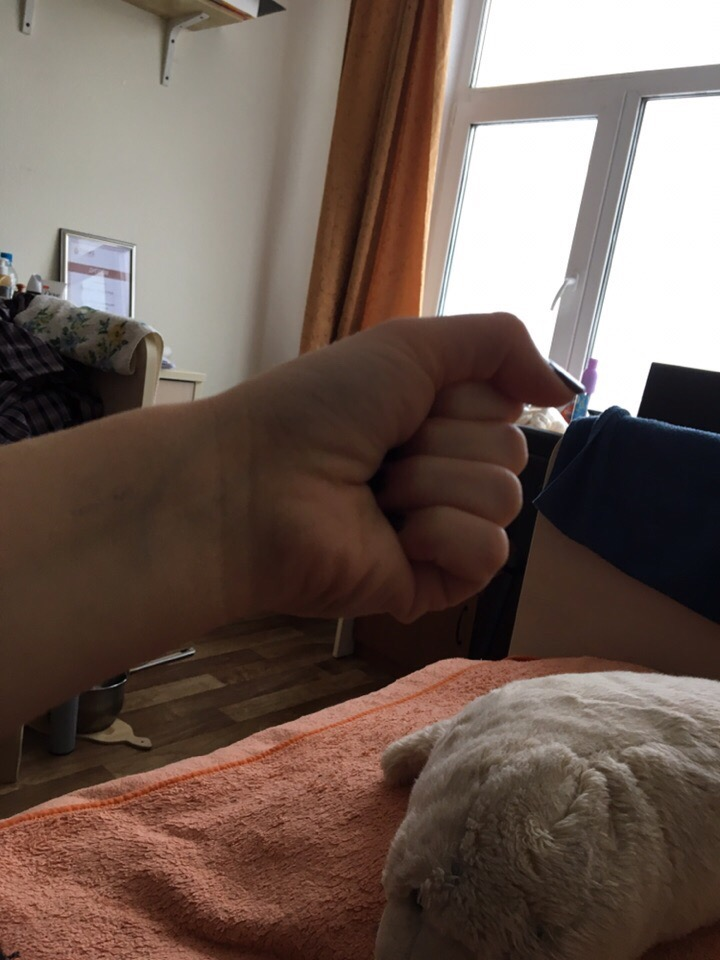hand: (316, 320, 562, 606)
